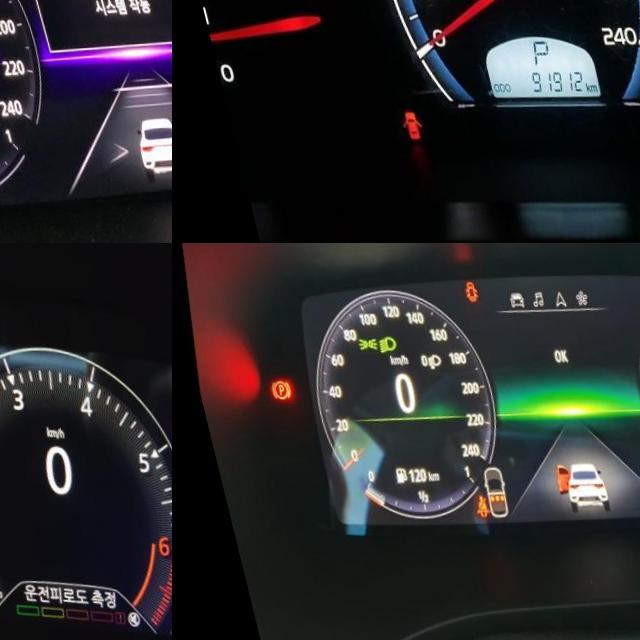Doors: (376, 111, 401, 140), (449, 281, 469, 304)
Low beam: (361, 335, 385, 358)
SideLamp: (341, 336, 365, 353)
